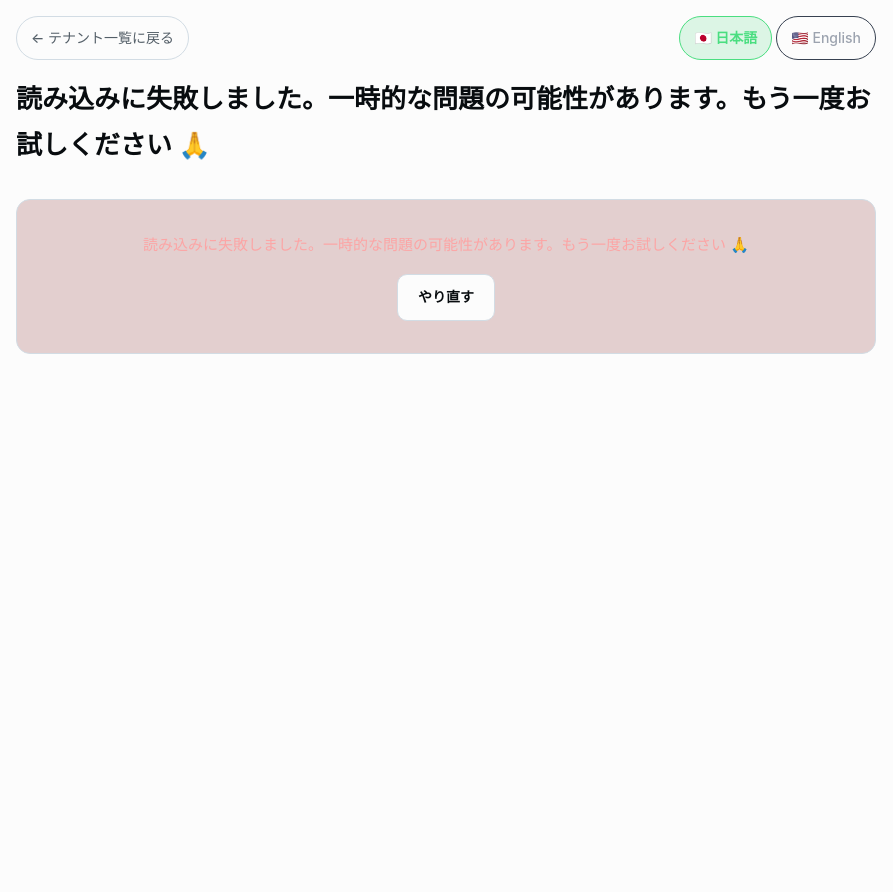
TenantDetailPage — エラー意味論(500 vs 404 vs 401) › 500の後に再試行ボタンを押すと再取得し、成功すればタブが描画される
Click the button "やり直す" at (446, 298), box x1=397 y1=274 x2=495 y2=321
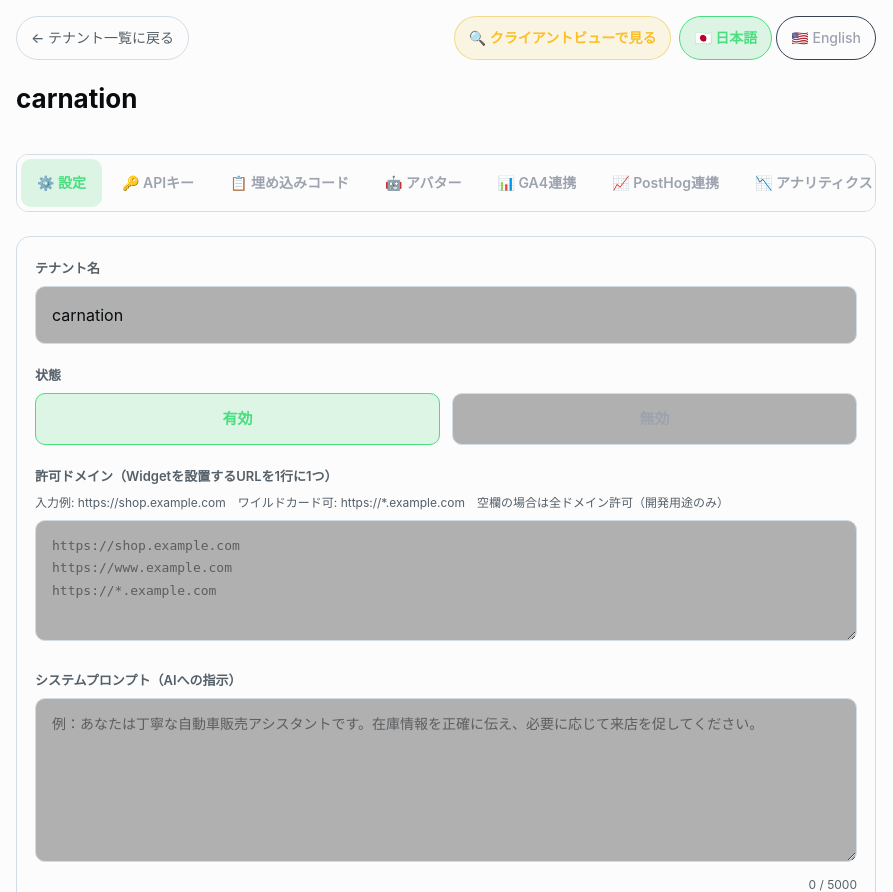
Now the button "⚙️ 設定" is shown, box x1=21 y1=158 x2=102 y2=207
